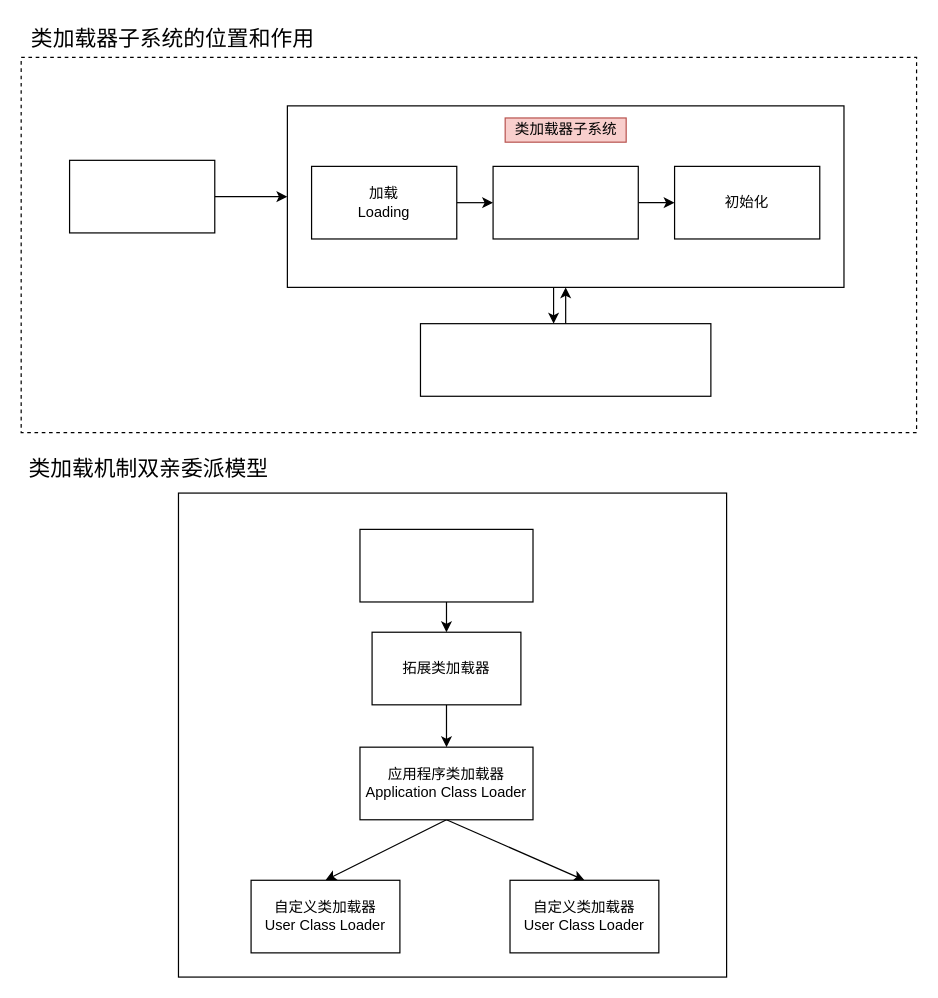
Some shapes in this 938 by 998 pixel diagram are drawn without their labels. Each missing label, with the centre of its shape:
class文件: point (141, 196)
启动类加载器 Bootstrap Class Loader: point (446, 565)
运行时数据区: point (565, 359)
连接 （Linking）: point (565, 202)
